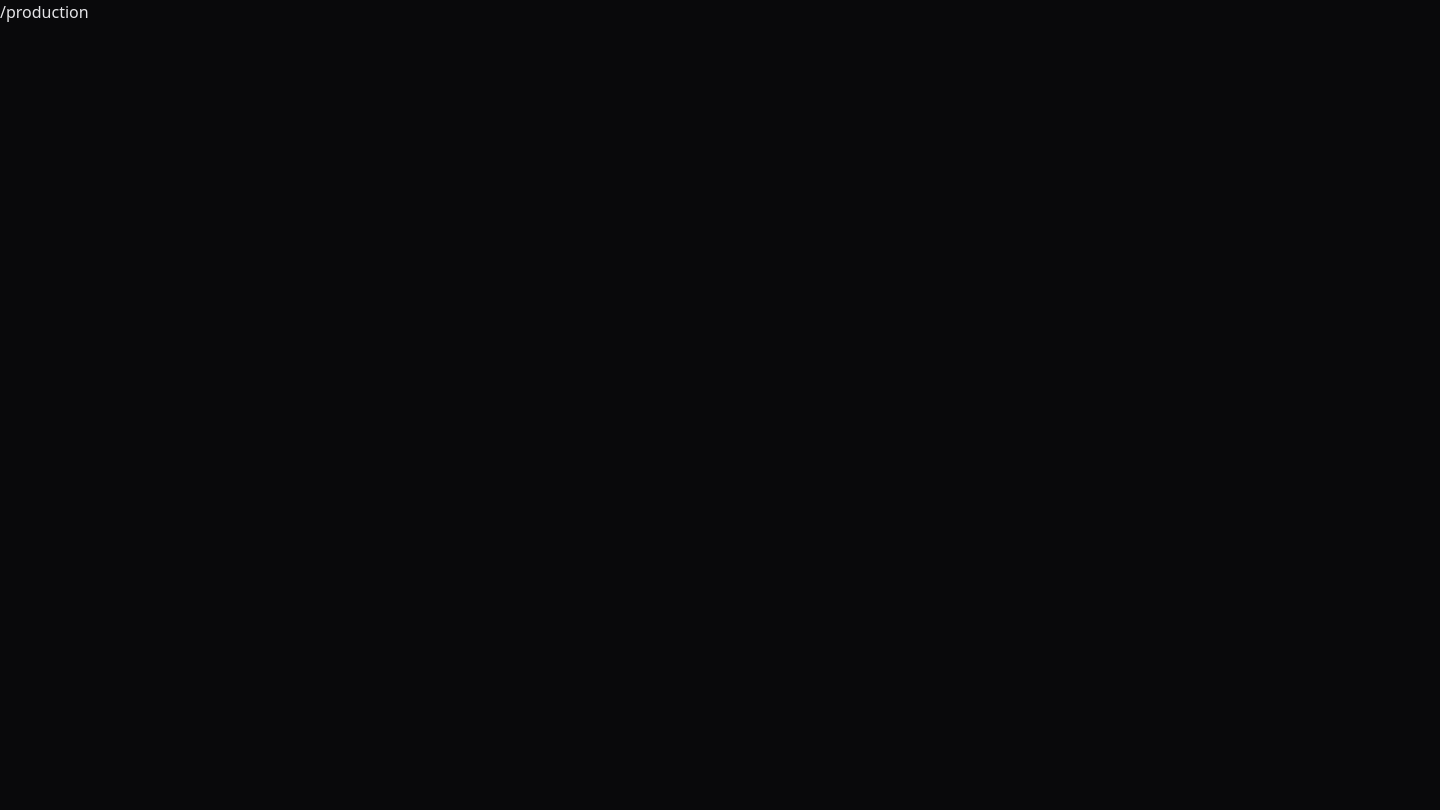
Test case: CommandPalette › fuzzy-filters modules and navigates on Enter
Press k
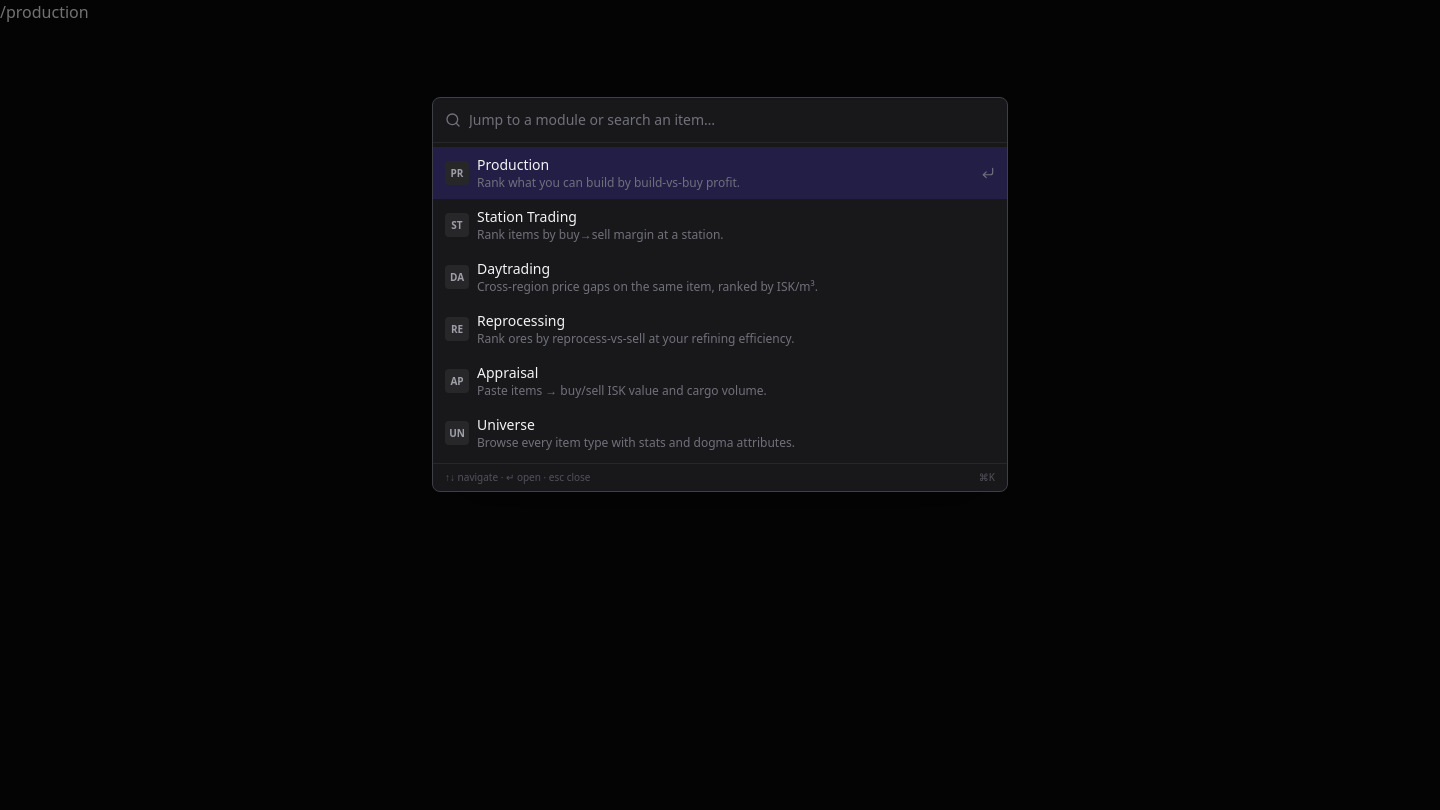
In the field with placeholder "Jump to a module or search an item…": (732,120) x1=469 y1=98 x2=995 y2=142, type "wormh"
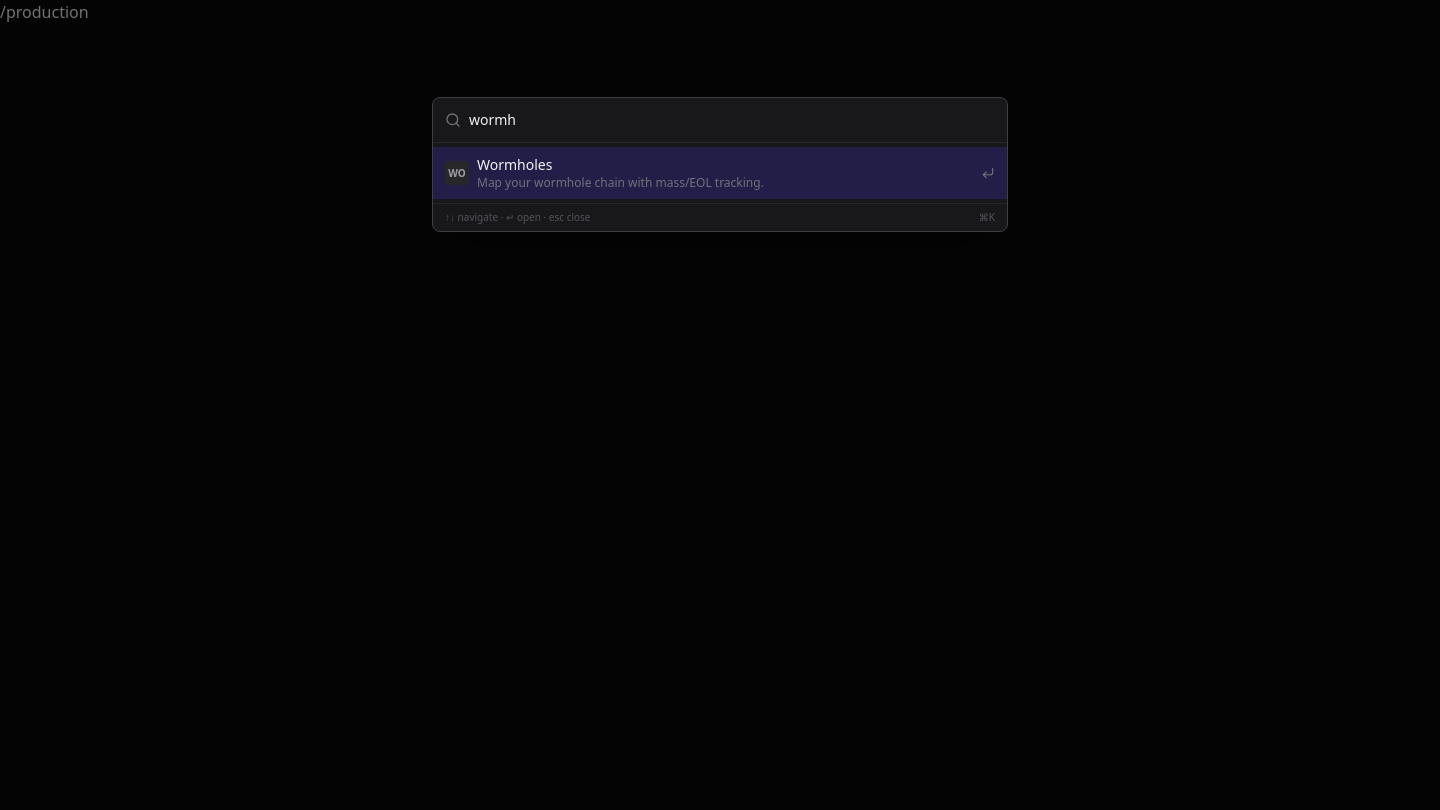
Result: the text "Wormholes" is shown at x1=477 y1=155 x2=552 y2=174
Press Enter in the field with placeholder "Jump to a module or search an item…", box x1=469 y1=98 x2=995 y2=142
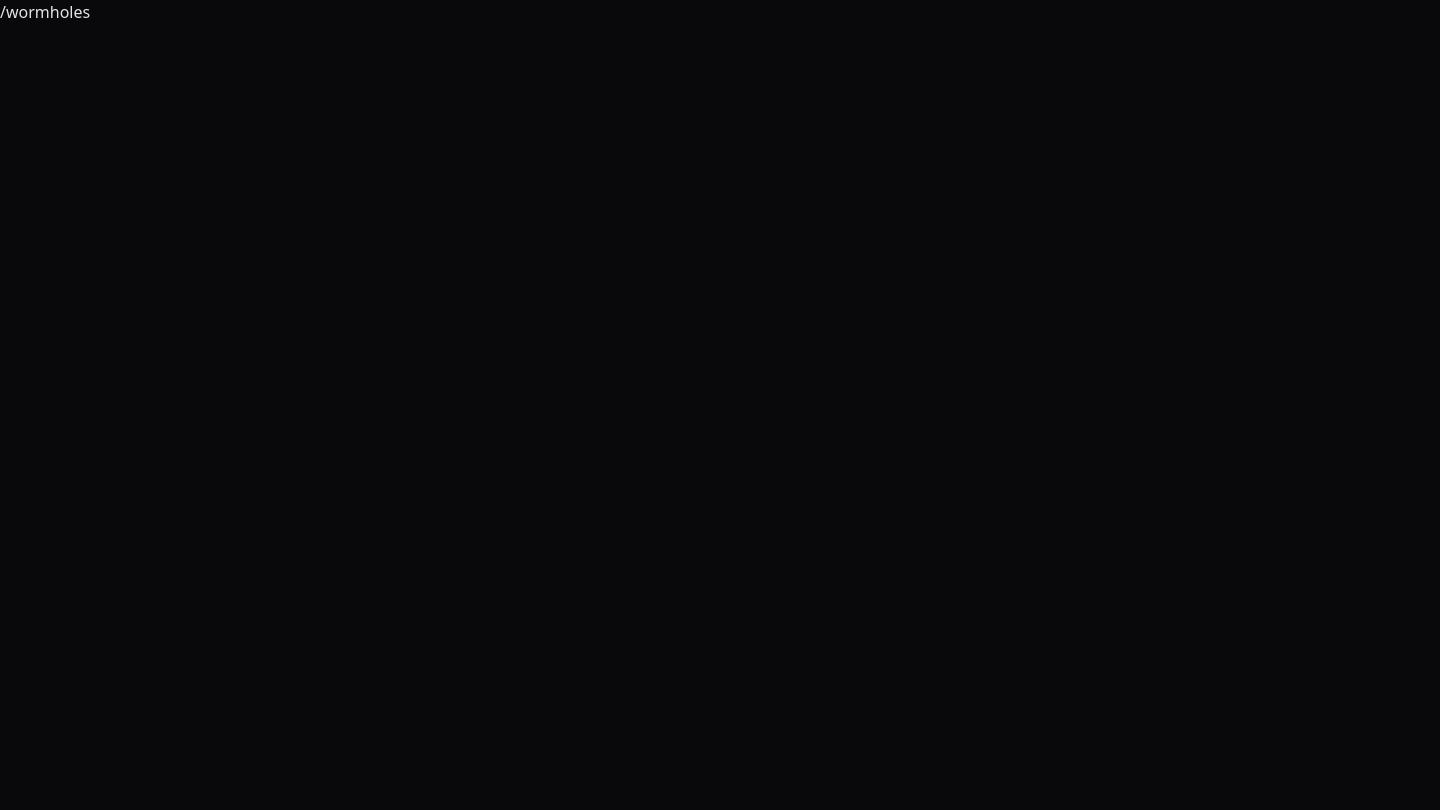
Expected: the field with placeholder "Jump to a module" is not shown
Result: the text with test id "path" reads "/wormholes" at x1=0 y1=1 x2=90 y2=23
